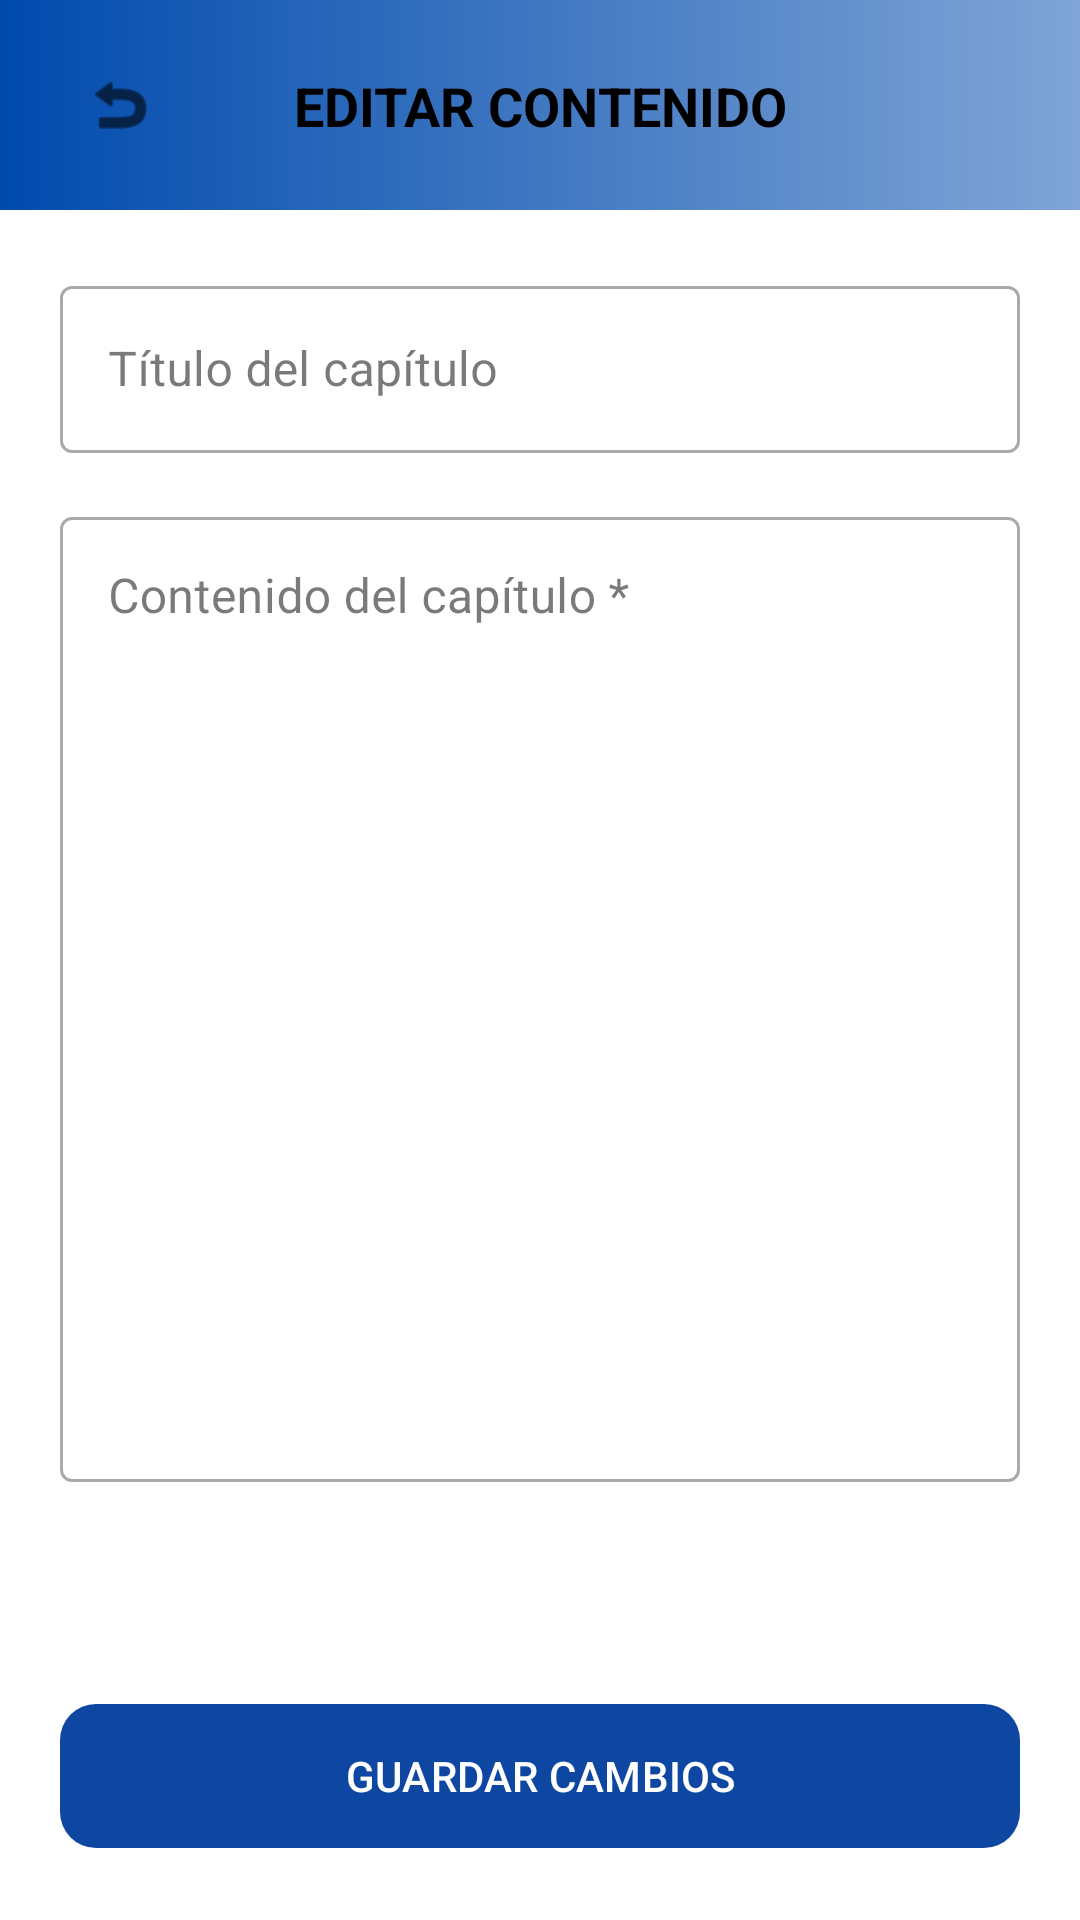

Locate icon controls on the screen. Image size 1080×1920, boxes as [x1=x1, y1=y1, x2=x2, y2=y2].
Volver atrás: [x1=95, y1=82, x2=147, y2=129]
